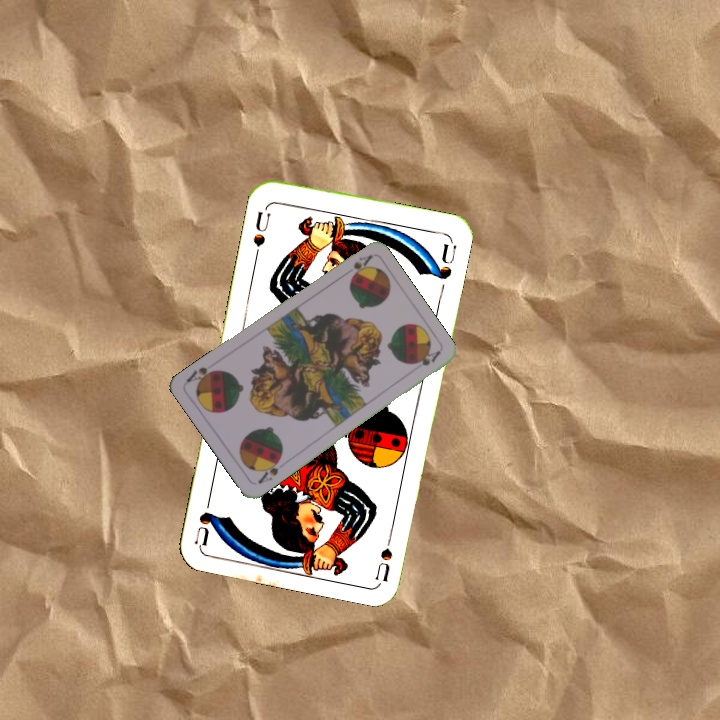SA: (254, 453, 284, 486), (347, 251, 374, 280)
SU: (371, 523, 397, 582), (248, 202, 273, 261)
